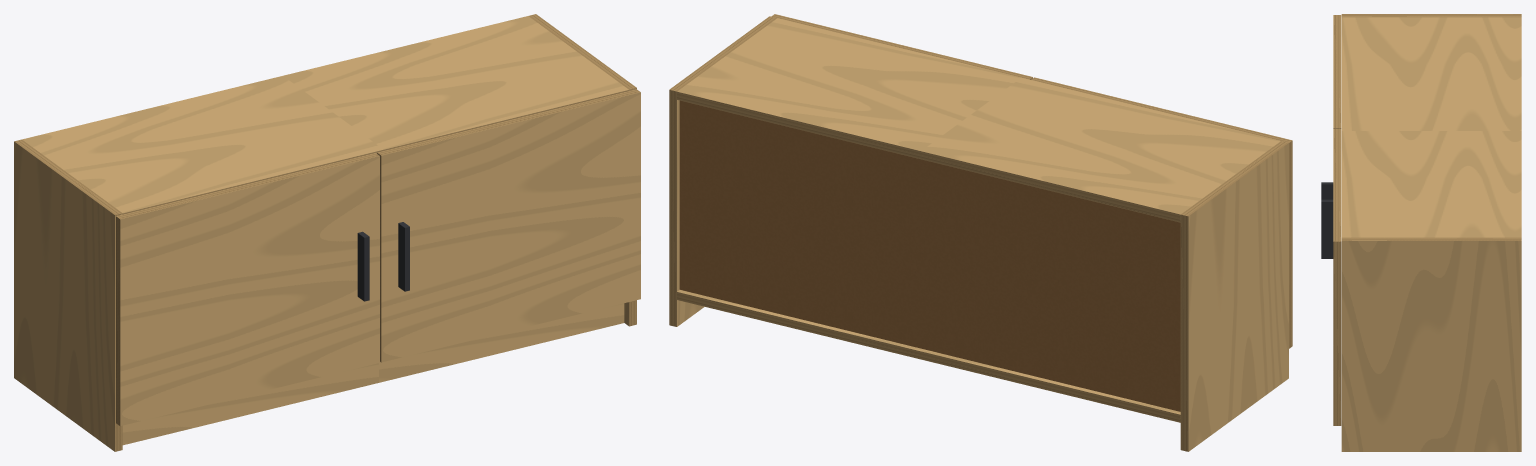
Rendered from HIN-MED-short.glb.
3 views of the same model, side by side, from view 1: azimuth 30°, elevation 25°; view 2: azimuth 150°, elevation 25°; view 3: azimuth 270°, elevation 25° (orthographic). The views are drawn at different scales.
Visible parts, largest first — view 1: door-r:sheet:eyJtIjoicGx5Iiwic2lkZSI6ImZhY2UiLCJzZWVkIjoyLCJ, door-l:sheet:eyJtIjoicGx5Iiwic2lkZSI6ImZhY2UiLCJzZWVkIjoyLCJ, top:sheet:eyJtIjoicGx5Iiwic2lkZSI6ImZhY2UiLCJzZWVkIjo2LCJ2ZW, side-l:sheet:eyJtIjoicGx5Iiwic2lkZSI6ImZhY2UiLCJzZWVkIjoxLCJ, plinth:sheet:eyJtIjoicGx5Iiwic2lkZSI6ImZhY2UiLCJzZWVkIjozLCJ, pull, door-l:sheet:eyJtIjoicGx5Iiwic2lkZSI6ImVkZ2UtbG9uZyIsInNlZWQ, door-r:sheet:eyJtIjoicGx5Iiwic2lkZSI6ImVkZ2UtbG9uZyIsInNlZWQ, door-l:sheet:eyJtIjoicGx5Iiwic2lkZSI6ImVkZ2UtZW5kIiwic2VlZCI, top:sheet:eyJtIjoicGx5Iiwic2lkZSI6ImVkZ2UtbG9uZyIsInNlZWQiOj, side-l:sheet:eyJtIjoicGx5Iiwic2lkZSI6ImVkZ2UtZW5kIiwic2VlZCI, side-r:sheet:eyJtIjoicGx5Iiwic2lkZSI6ImVkZ2UtZW5kIiwic2VlZCI; view 2: back:sheet:eyJtIjoibWRmIiwic2lkZSI6ImZhY2UiLCJzZWVkIjoxLCJ0a, top:sheet:eyJtIjoicGx5Iiwic2lkZSI6ImZhY2UiLCJzZWVkIjo2LCJ2ZW, side-l:sheet:eyJtIjoicGx5Iiwic2lkZSI6ImZhY2UiLCJzZWVkIjoxLCJ, top:sheet:eyJtIjoicGx5Iiwic2lkZSI6ImVkZ2UtbG9uZyIsInNlZWQiOj, bottom:sheet:eyJtIjoicGx5Iiwic2lkZSI6ImVkZ2UtbG9uZyIsInNlZWQ, side-l:sheet:eyJtIjoicGx5Iiwic2lkZSI6ImVkZ2UtbG9uZyIsInNlZWQ, side-r:sheet:eyJtIjoicGx5Iiwic2lkZSI6ImVkZ2UtbG9uZyIsInNlZWQ, bottom:sheet:eyJtIjoicGx5Iiwic2lkZSI6ImZhY2UiLCJzZWVkIjowLCJ, door-r:sheet:eyJtIjoicGx5Iiwic2lkZSI6ImVkZ2UtbG9uZyIsInNlZWQ, door-l:sheet:eyJtIjoicGx5Iiwic2lkZSI6ImVkZ2UtbG9uZyIsInNlZWQ, side-r:sheet:eyJtIjoicGx5Iiwic2lkZSI6ImZhY2UiLCJzZWVkIjozLCJ, side-l:sheet:eyJtIjoicGx5Iiwic2lkZSI6ImVkZ2UtZW5kIiwic2VlZCI (+2 smaller); view 3: top:sheet:eyJtIjoicGx5Iiwic2lkZSI6ImZhY2UiLCJzZWVkIjo2LCJ2ZW, side-r:sheet:eyJtIjoicGx5Iiwic2lkZSI6ImZhY2UiLCJzZWVkIjozLCJ, door-r:sheet:eyJtIjoicGx5Iiwic2lkZSI6ImVkZ2UtZW5kIiwic2VlZCI, door-r:sheet:eyJtIjoicGx5Iiwic2lkZSI6ImVkZ2UtbG9uZyIsInNlZWQ, door-l:sheet:eyJtIjoicGx5Iiwic2lkZSI6ImVkZ2UtbG9uZyIsInNlZWQ, pull, side-l:sheet:eyJtIjoicGx5Iiwic2lkZSI6ImVkZ2UtZW5kIiwic2VlZCI, side-r:sheet:eyJtIjoicGx5Iiwic2lkZSI6ImVkZ2UtZW5kIiwic2VlZCI.
Boxes of the visible parts, box(x1,y1,x2,y2) form: door-r:sheet:eyJtIjoicGx5Iiwic2lkZSI6ImZhY2UiLCJzZWVkIjoyLCJ: box(381, 92, 640, 362); door-l:sheet:eyJtIjoicGx5Iiwic2lkZSI6ImZhY2UiLCJzZWVkIjoyLCJ: box(120, 156, 379, 425); top:sheet:eyJtIjoicGx5Iiwic2lkZSI6ImZhY2UiLCJzZWVkIjo2LCJ2ZW: box(22, 16, 628, 213); side-l:sheet:eyJtIjoicGx5Iiwic2lkZSI6ImZhY2UiLCJzZWVkIjoxLCJ: box(14, 141, 114, 451); plinth:sheet:eyJtIjoicGx5Iiwic2lkZSI6ImZhY2UiLCJzZWVkIjozLCJ: box(122, 303, 624, 445); pull: box(357, 222, 409, 301); door-l:sheet:eyJtIjoicGx5Iiwic2lkZSI6ImVkZ2UtbG9uZyIsInNlZWQ: box(116, 153, 379, 219); door-r:sheet:eyJtIjoicGx5Iiwic2lkZSI6ImVkZ2UtbG9uZyIsInNlZWQ: box(377, 89, 640, 155); door-l:sheet:eyJtIjoicGx5Iiwic2lkZSI6ImVkZ2UtZW5kIiwic2VlZCI: box(116, 216, 120, 425); top:sheet:eyJtIjoicGx5Iiwic2lkZSI6ImVkZ2UtbG9uZyIsInNlZWQiOj: box(122, 90, 629, 214); side-l:sheet:eyJtIjoicGx5Iiwic2lkZSI6ImVkZ2UtZW5kIiwic2VlZCI: box(14, 139, 122, 214); side-r:sheet:eyJtIjoicGx5Iiwic2lkZSI6ImVkZ2UtZW5kIiwic2VlZCI: box(529, 14, 636, 89); back:sheet:eyJtIjoibWRmIiwic2lkZSI6ImZhY2UiLCJzZWVkIjoxLCJ0a: box(679, 100, 1180, 411); top:sheet:eyJtIjoicGx5Iiwic2lkZSI6ImZhY2UiLCJzZWVkIjo2LCJ2ZW: box(677, 18, 1280, 214); side-l:sheet:eyJtIjoicGx5Iiwic2lkZSI6ImZhY2UiLCJzZWVkIjoxLCJ: box(1188, 143, 1288, 451); top:sheet:eyJtIjoicGx5Iiwic2lkZSI6ImVkZ2UtbG9uZyIsInNlZWQiOj: box(677, 91, 1180, 222); bottom:sheet:eyJtIjoicGx5Iiwic2lkZSI6ImVkZ2UtbG9uZyIsInNlZWQ: box(677, 292, 1180, 422); side-l:sheet:eyJtIjoicGx5Iiwic2lkZSI6ImVkZ2UtbG9uZyIsInNlZWQ: box(1180, 214, 1188, 451); side-r:sheet:eyJtIjoicGx5Iiwic2lkZSI6ImVkZ2UtbG9uZyIsInNlZWQ: box(669, 90, 676, 326); bottom:sheet:eyJtIjoicGx5Iiwic2lkZSI6ImZhY2UiLCJzZWVkIjowLCJ: box(677, 290, 1180, 414); door-r:sheet:eyJtIjoicGx5Iiwic2lkZSI6ImVkZ2UtbG9uZyIsInNlZWQ: box(771, 14, 1032, 79); door-l:sheet:eyJtIjoicGx5Iiwic2lkZSI6ImVkZ2UtbG9uZyIsInNlZWQ: box(1031, 77, 1292, 142); side-r:sheet:eyJtIjoicGx5Iiwic2lkZSI6ImZhY2UiLCJzZWVkIjozLCJ: box(677, 100, 704, 326); side-l:sheet:eyJtIjoicGx5Iiwic2lkZSI6ImVkZ2UtZW5kIiwic2VlZCI: box(1181, 141, 1288, 216); top:sheet:eyJtIjoicGx5Iiwic2lkZSI6ImZhY2UiLCJzZWVkIjo2LCJ2ZW: box(1341, 17, 1521, 237); side-r:sheet:eyJtIjoicGx5Iiwic2lkZSI6ImZhY2UiLCJzZWVkIjozLCJ: box(1341, 241, 1521, 451); door-r:sheet:eyJtIjoicGx5Iiwic2lkZSI6ImVkZ2UtZW5kIiwic2VlZCI: box(1333, 241, 1341, 425); door-r:sheet:eyJtIjoicGx5Iiwic2lkZSI6ImVkZ2UtbG9uZyIsInNlZWQ: box(1333, 128, 1341, 241); door-l:sheet:eyJtIjoicGx5Iiwic2lkZSI6ImVkZ2UtbG9uZyIsInNlZWQ: box(1333, 15, 1341, 127); pull: box(1321, 182, 1333, 258); side-l:sheet:eyJtIjoicGx5Iiwic2lkZSI6ImVkZ2UtZW5kIiwic2VlZCI: box(1341, 14, 1521, 17); side-r:sheet:eyJtIjoicGx5Iiwic2lkZSI6ImVkZ2UtZW5kIiwic2VlZCI: box(1341, 237, 1521, 240).
Size of the model in its own units: 1.2 by 0.52 by 0.4468.
34 materials, 33 textured.
